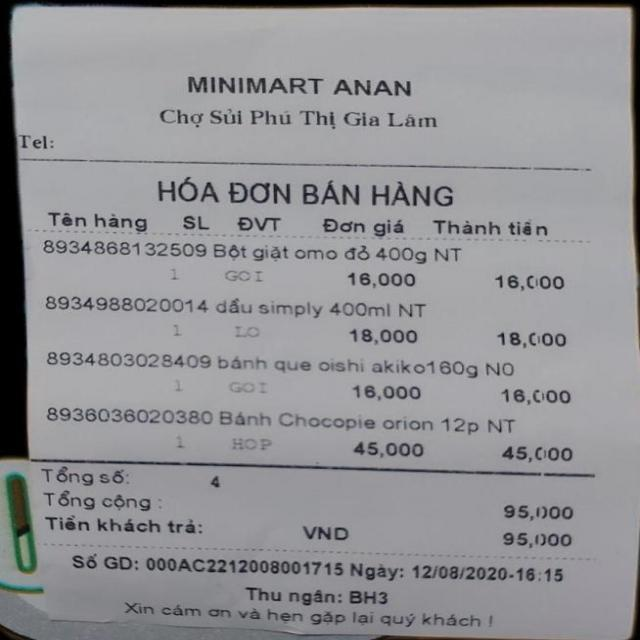Date: (409, 559, 510, 585)
Store_Name: (168, 62, 437, 102)
Total_Amount: (31, 488, 596, 522)
